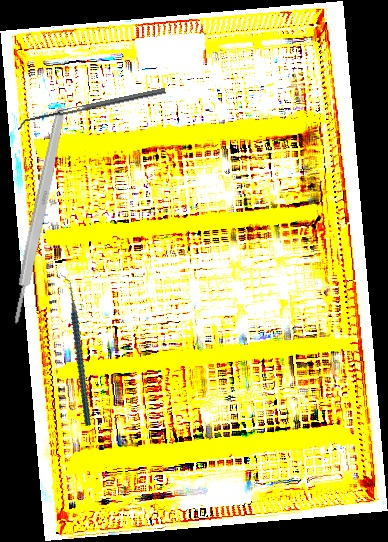Chopper: (29, 271, 121, 427)
Scalpel Handle: (9, 106, 68, 325)
Spatula Surgical: (16, 87, 167, 131)
